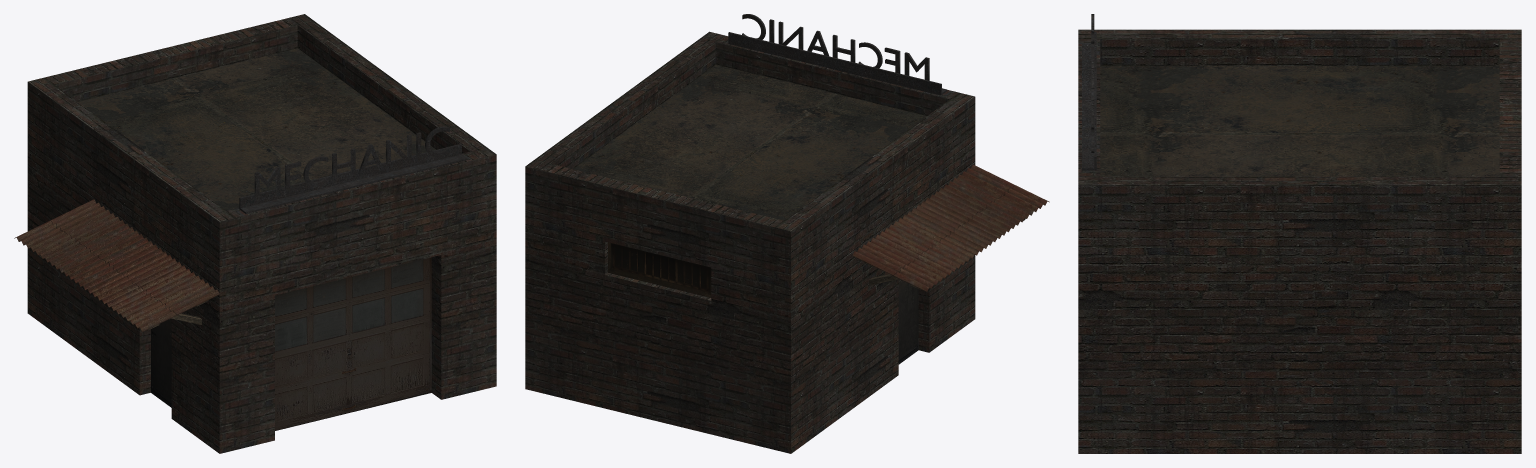
File: garage_hm_1.obj
3 renders of one model, left to right at view 1: azimuth 30°, elevation 25°; view 2: azimuth 150°, elevation 25°; view 3: azimuth 270°, elevation 25°, orthographic. The views are drawn at different scales.
Parts seen in each view (by area): view 1: garage_hm_1; view 2: garage_hm_1; view 3: garage_hm_1.
Part boxes in pixels (x1,y1,x2,y2): garage_hm_1: (14, 14, 496, 453); garage_hm_1: (525, 14, 1049, 453); garage_hm_1: (1078, 14, 1521, 453).
Bounding box in the file's own units: 6.4 × 4.59 × 6.
